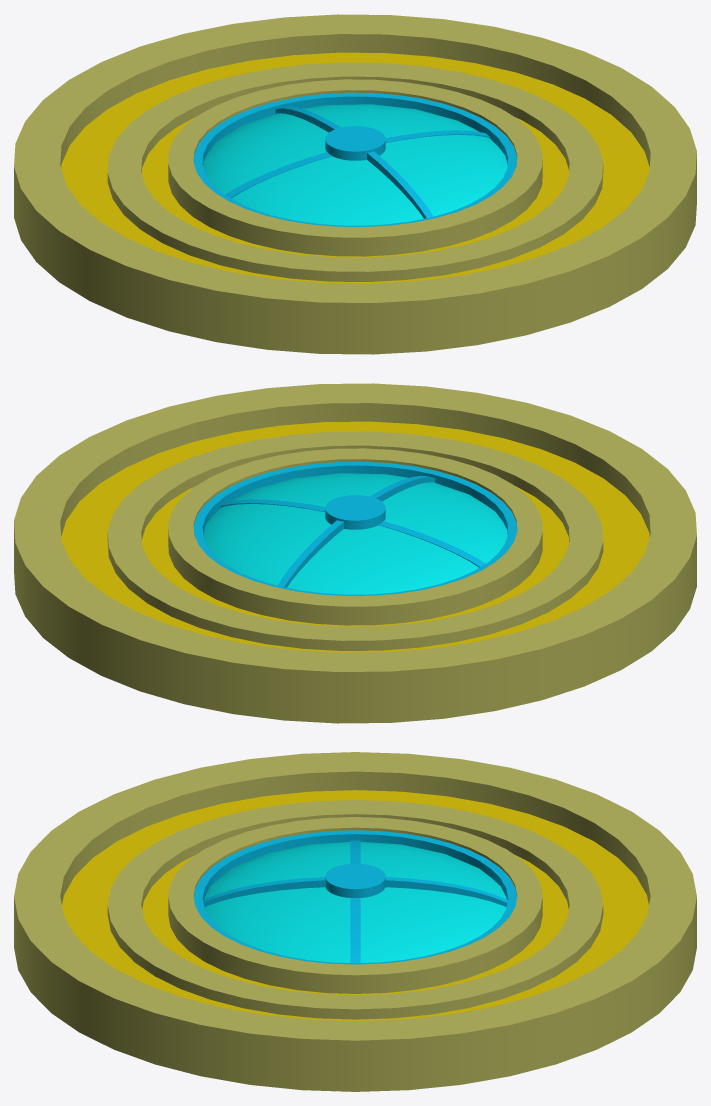
File: coin2.fbx
3 renders of one model, top to bottom at view 1: azimuth 30°, elevation 25°; view 2: azimuth 150°, elevation 25°; view 3: azimuth 270°, elevation 25°, orthographic.
Parts seen in each view (by area): view 1: pPipe1, pPipe3, pSphere1, pCylinder1, pPipe4, pPipe2, pCylinder2, pCylinder4, pCylinder3; view 2: pPipe1, pPipe3, pSphere1, pCylinder1, pPipe4, pPipe2, pCylinder2, pCylinder4, pCylinder3; view 3: pPipe1, pPipe3, pSphere1, pCylinder1, pPipe4, pPipe2, pCylinder4, pCylinder2, pCylinder3.
Boxes of the visible parts, <box> form: pPipe1: <box>14,14,696,354</box>; pPipe3: <box>107,62,603,281</box>; pSphere1: <box>203,104,507,225</box>; pCylinder1: <box>61,52,649,283</box>; pPipe4: <box>168,79,542,256</box>; pPipe2: <box>193,92,517,226</box>; pCylinder2: <box>325,126,385,160</box>; pCylinder4: <box>275,106,433,218</box>; pCylinder3: <box>225,130,490,198</box>; pPipe1: <box>14,383,696,723</box>; pPipe3: <box>107,431,603,650</box>; pSphere1: <box>203,473,507,594</box>; pCylinder1: <box>61,421,649,652</box>; pPipe4: <box>168,448,542,625</box>; pPipe2: <box>193,461,517,595</box>; pCylinder2: <box>325,495,385,529</box>; pCylinder4: <box>277,475,435,587</box>; pCylinder3: <box>220,499,485,567</box>; pPipe1: <box>14,752,696,1091</box>; pPipe3: <box>107,800,603,1019</box>; pSphere1: <box>204,842,506,962</box>; pCylinder1: <box>62,790,648,1020</box>; pPipe4: <box>168,817,542,993</box>; pPipe2: <box>194,830,516,964</box>; pCylinder4: <box>203,877,507,907</box>; pCylinder2: <box>325,863,385,897</box>; pCylinder3: <box>350,840,360,963</box>.
Bounding box in the file's own units: 43.98 × 6.25 × 43.98.
